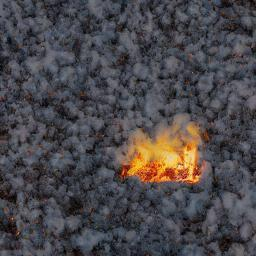Small fire: (100, 106, 229, 195)
